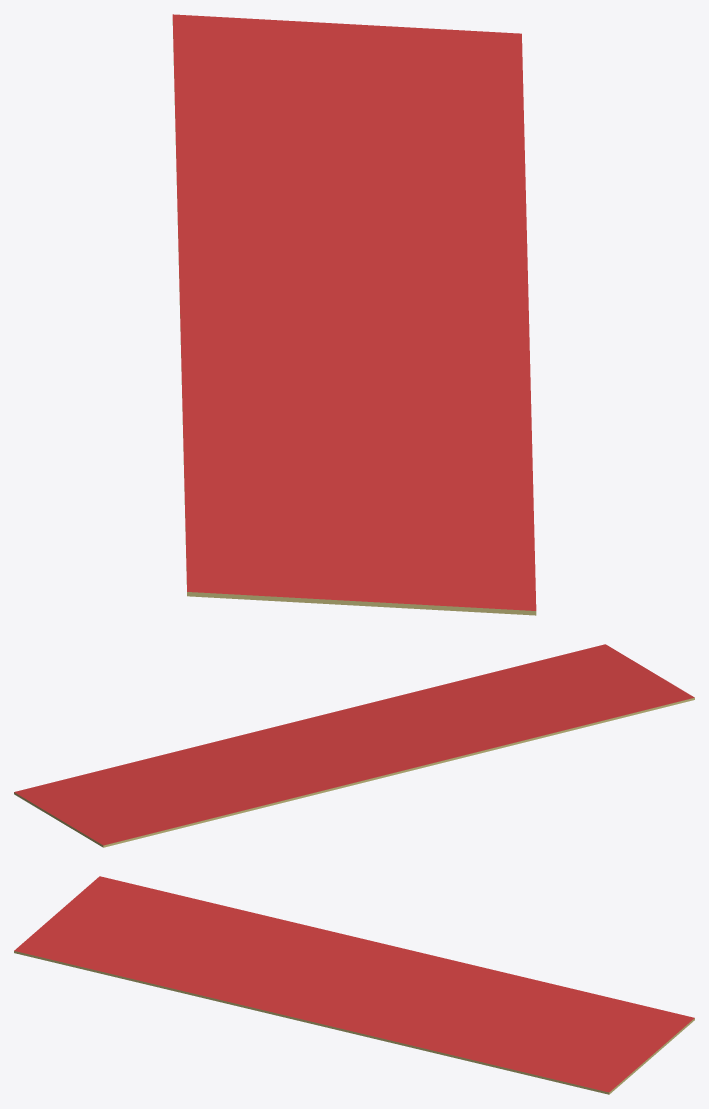
The picture shows the model from 3 angles, top to bottom: view 1: azimuth 30°, elevation 25°; view 2: azimuth 150°, elevation 25°; view 3: azimuth 270°, elevation 25°; orthographic projection. The views are drawn at different scales.
Bounding box in the file's own units: 19.79 × 27.65 × 0.565.
